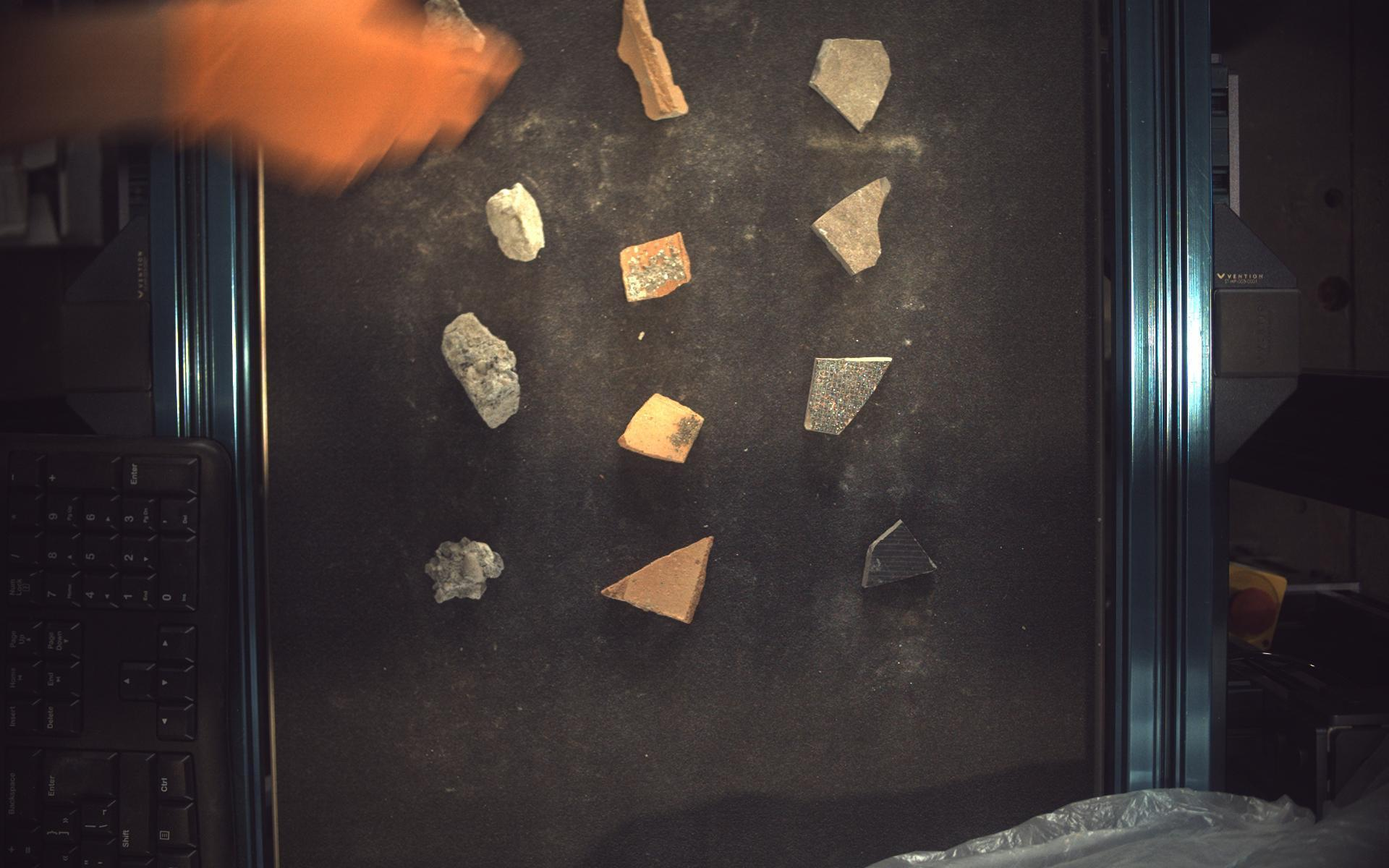brick: (602, 537, 715, 624), (618, 1, 689, 119), (619, 393, 705, 463), (621, 231, 692, 302)
concrete: (442, 312, 520, 428), (425, 537, 504, 604), (486, 182, 545, 261)
tile: (814, 176, 893, 275), (810, 38, 893, 130), (806, 357, 894, 435), (864, 521, 939, 589)
